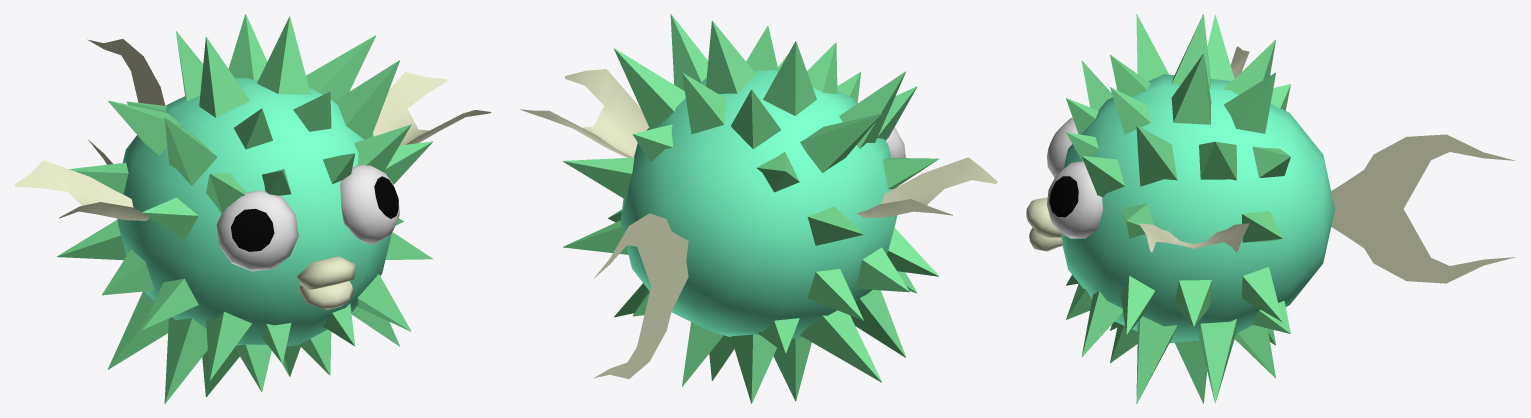
The model's file is M_fish_2.fbx.
3 views of the same model, side by side, from view 1: azimuth 30°, elevation 25°; view 2: azimuth 150°, elevation 25°; view 3: azimuth 270°, elevation 25° (orthographic). The views are drawn at different scales.
Parts seen in each view (by area): view 1: Fish2.001; view 2: Fish2.001; view 3: Fish2.001.
Part boxes in pixels (box(x1,y1,x2,y2)): Fish2.001: box(14, 14, 491, 403); Fish2.001: box(520, 14, 997, 403); Fish2.001: box(1026, 14, 1515, 403).
Size of the model in its own units: 178 by 180 by 141.
